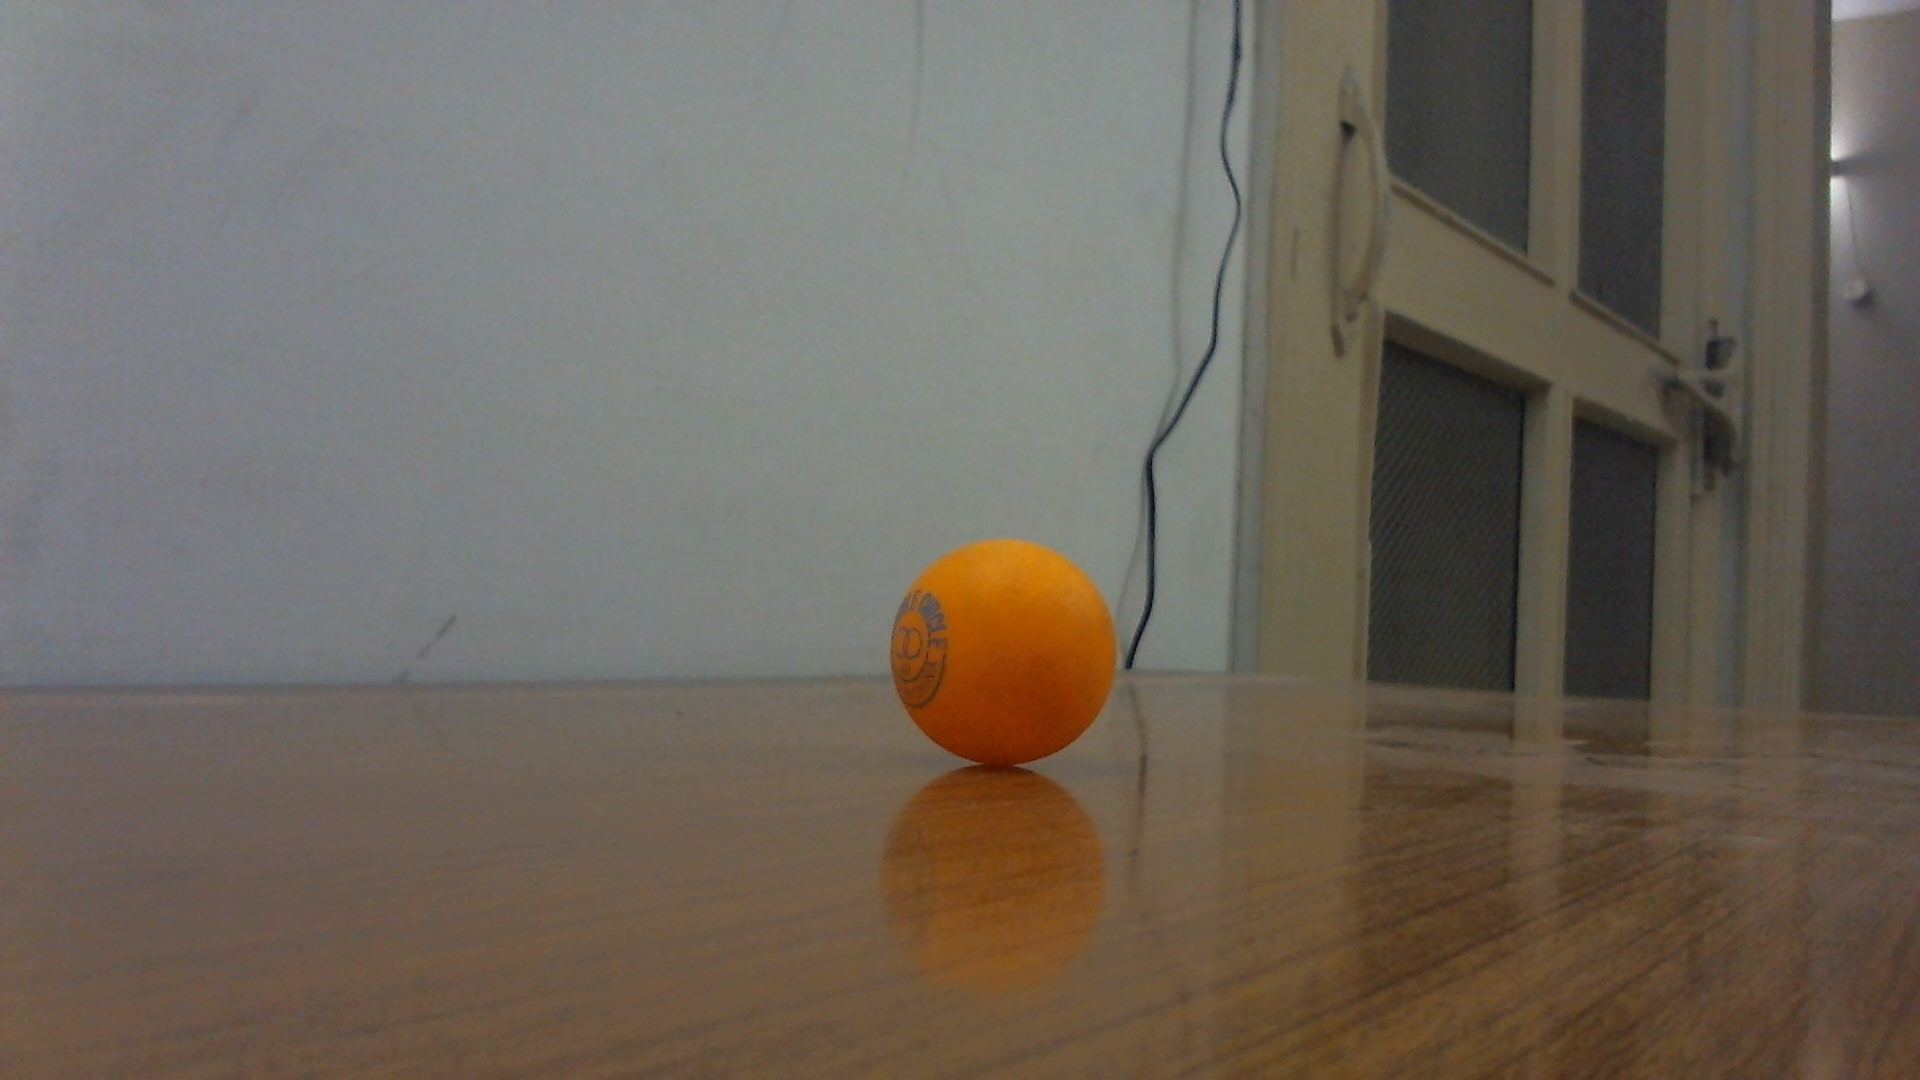ball: (889, 535, 1120, 771)
